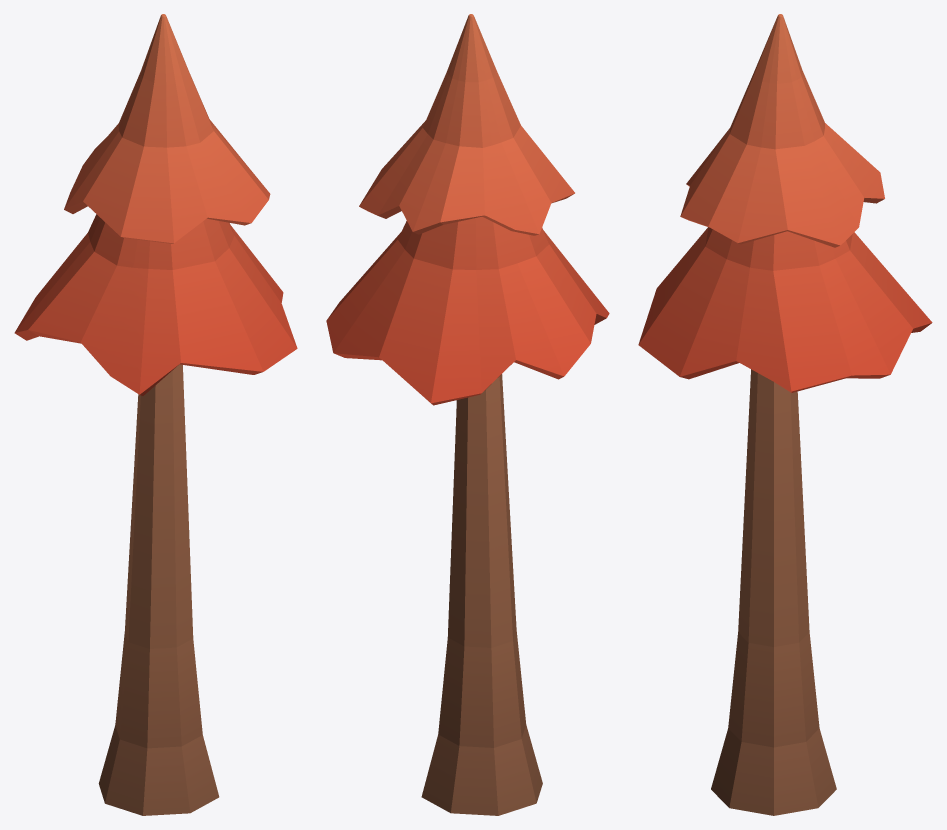
Rendered from autumn pine tree small.fbx.
The picture shows the model from 3 angles, left to right: view 1: azimuth 30°, elevation 25°; view 2: azimuth 150°, elevation 25°; view 3: azimuth 270°, elevation 25°; orthographic projection.
Visible parts, largest first — view 1: autumn pine tree small; view 2: autumn pine tree small; view 3: autumn pine tree small.
Boxes of the visible parts, <box> form: autumn pine tree small: <box>14,14,297,815</box>; autumn pine tree small: <box>326,14,609,815</box>; autumn pine tree small: <box>638,14,932,815</box>.
Size of the model in its own units: 188 by 550 by 188.
